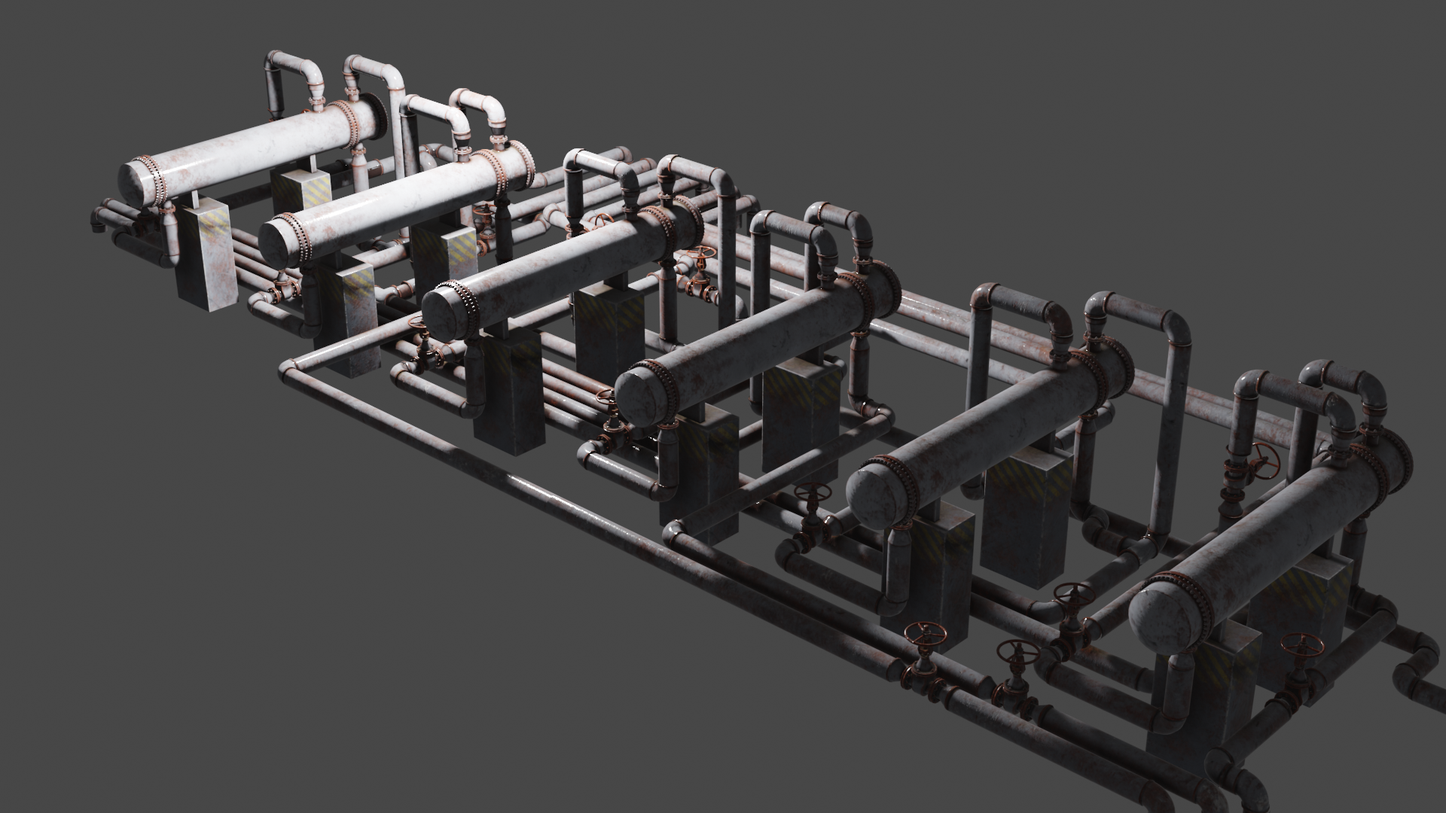HE_1: (1119, 422, 1412, 662)
HE_2: (843, 328, 1136, 531)
HE_3: (612, 251, 904, 432)
HE_4: (416, 194, 705, 345)
HE_5: (256, 138, 536, 270)
HE_6: (114, 89, 387, 208)
